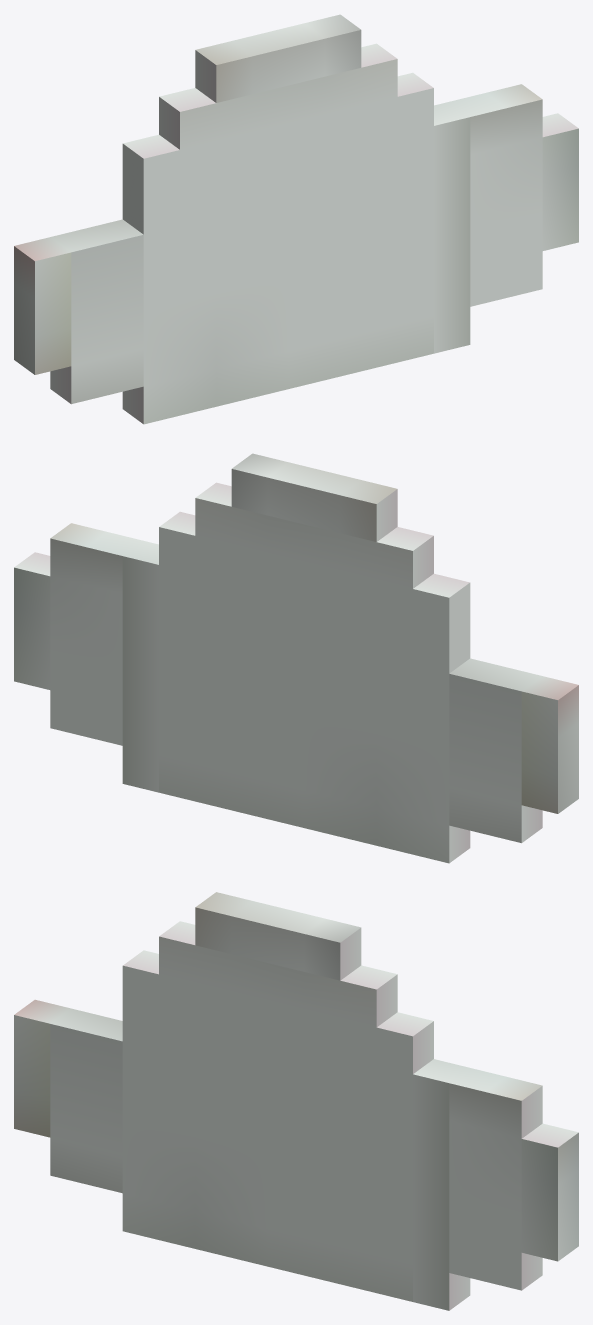
The model's file is CloudDecor_06.obj.
3 renders of one model, top to bottom at view 1: azimuth 30°, elevation 25°; view 2: azimuth 150°, elevation 25°; view 3: azimuth 330°, elevation 25°, orthographic.
Parts seen in each view (by area): view 1: CloudDecor_06; view 2: CloudDecor_06; view 3: CloudDecor_06.
Boxes of the visible parts, <box> form: CloudDecor_06: <box>14,14,578,424</box>; CloudDecor_06: <box>14,453,578,863</box>; CloudDecor_06: <box>14,892,578,1310</box>.
Size of the model in its own units: 0.75 by 0.45 by 0.05.
